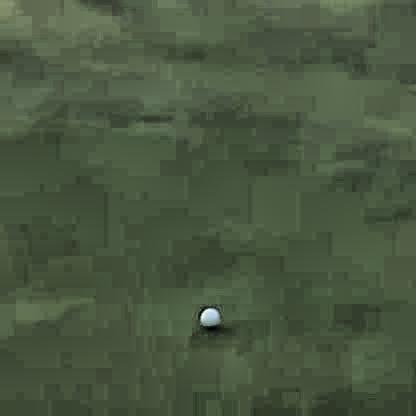golfball: (198, 302, 216, 324)
